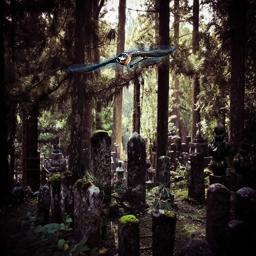Swallow: (67, 45, 176, 73)
